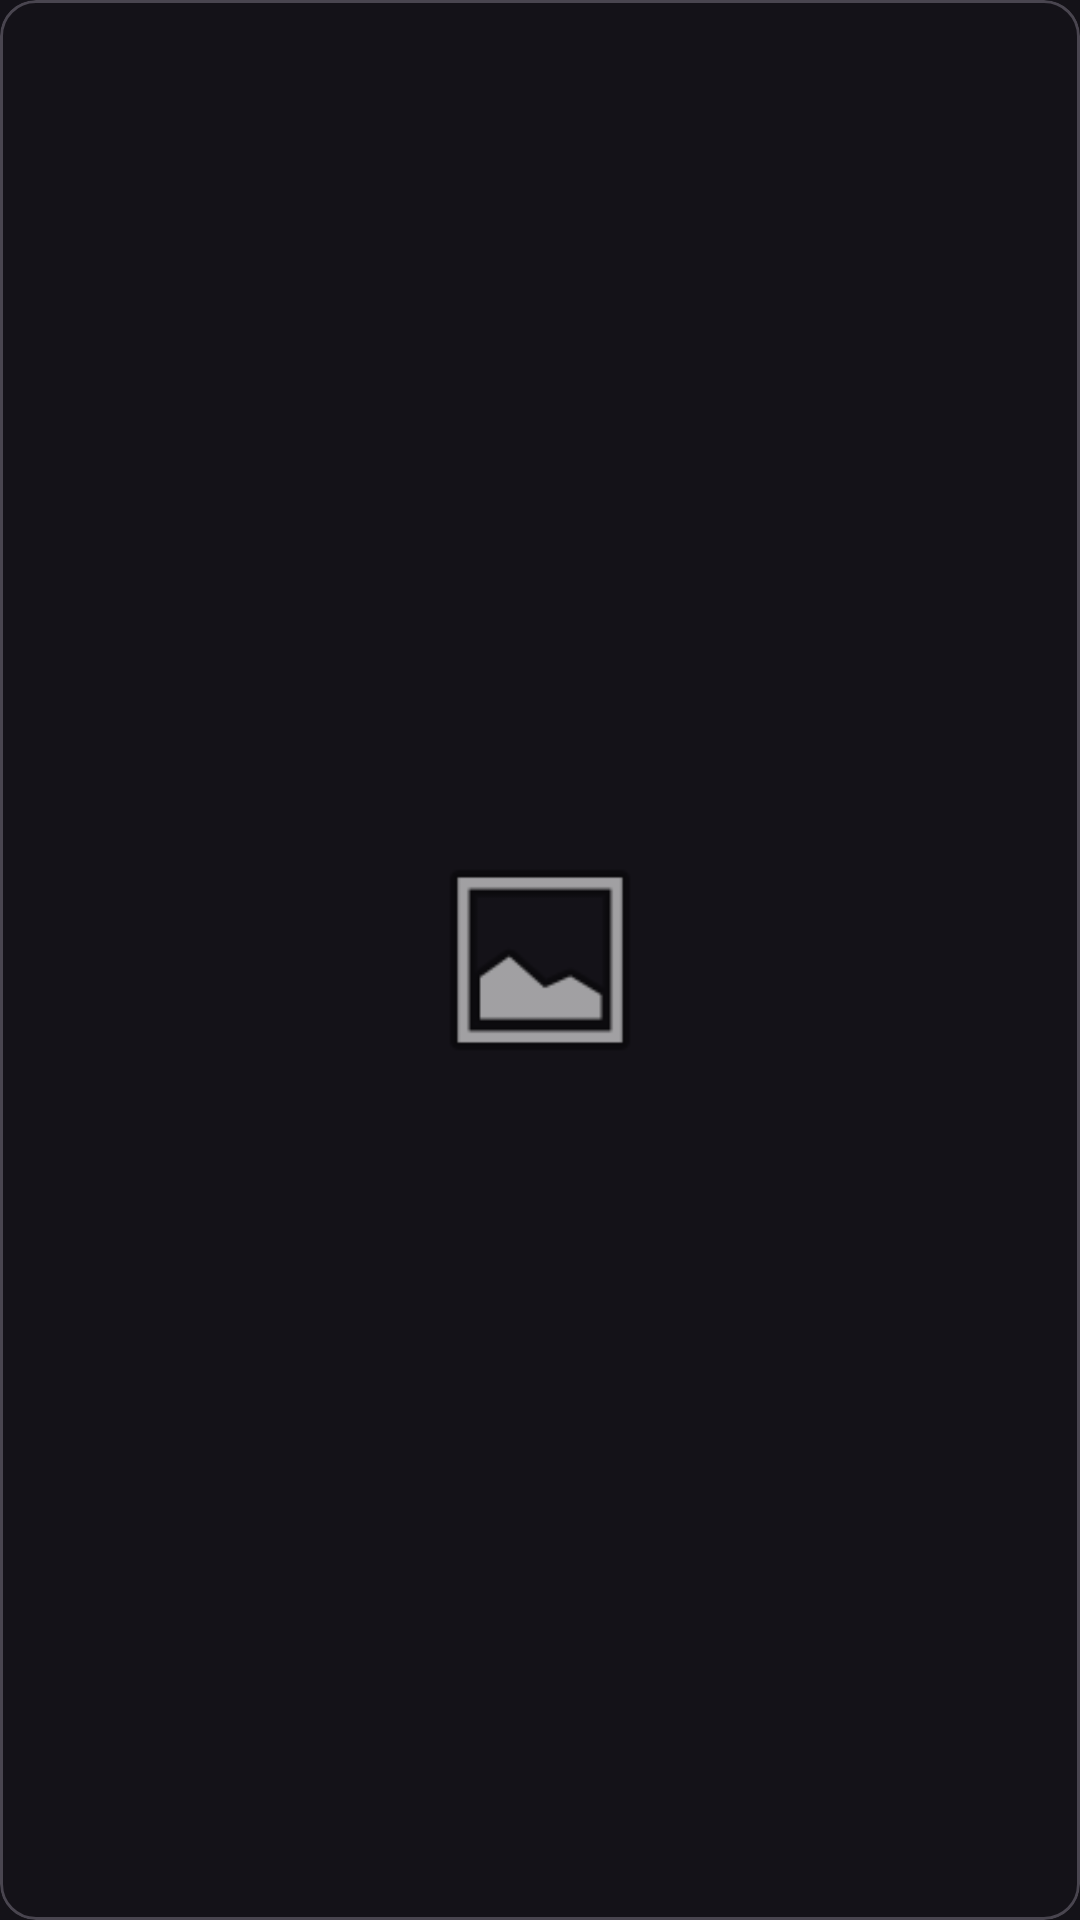

Screen size 1080×1920. Icon name, then its box in pixels as [x1,y1,x2,y2]:
gallery: [457,877,623,1043]
